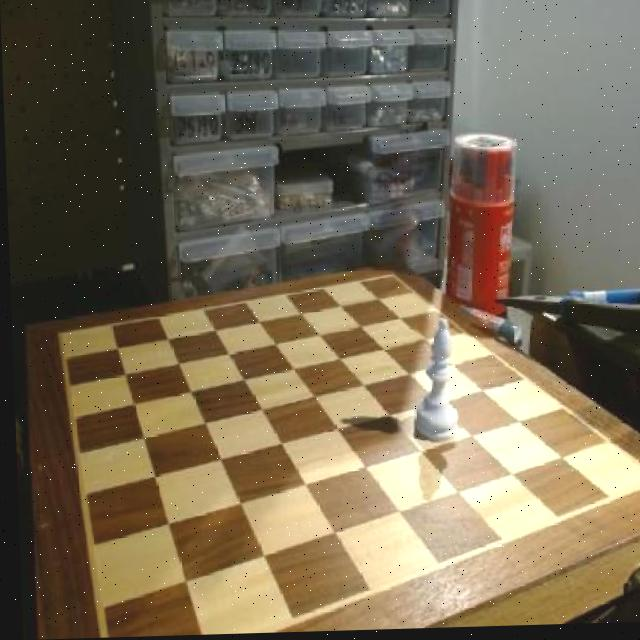black-rook: (408, 322, 462, 450)
